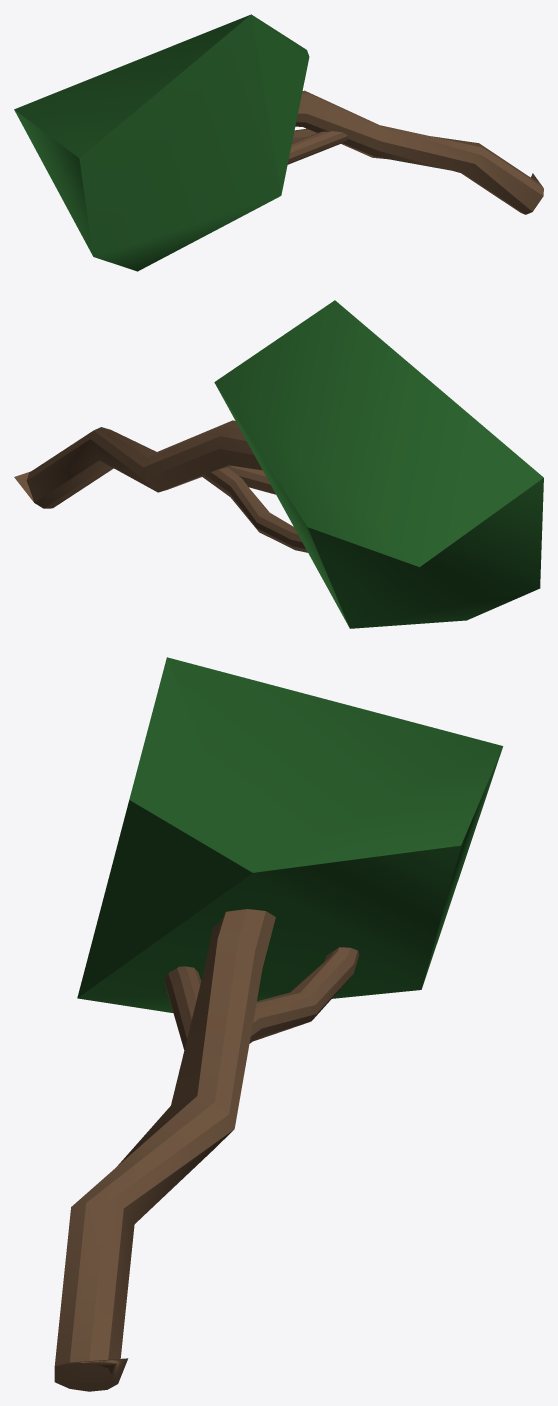
File: SM_ENV_TreeBranch.fbx
The picture shows the model from 3 angles, top to bottom: view 1: azimuth 30°, elevation 25°; view 2: azimuth 150°, elevation 25°; view 3: azimuth 270°, elevation 25°; orthographic projection. The views are drawn at different scales.
Parts seen in each view (by area): view 1: Tree_leafs4, pCylinder7, pCylinder9; view 2: Tree_leafs4, pCylinder7, pCylinder8, pCylinder9; view 3: Tree_leafs4, pCylinder7, pCylinder8, pCylinder9.
Part boxes in pixels (<box>): Tree_leafs4: <box>14,14,309,271</box>; pCylinder7: <box>295,90,543,214</box>; pCylinder9: <box>287,131,347,164</box>; Tree_leafs4: <box>214,300,543,628</box>; pCylinder7: <box>14,420,262,508</box>; pCylinder8: <box>202,467,307,552</box>; pCylinder9: <box>228,465,275,494</box>; Tree_leafs4: <box>77,657,503,1012</box>; pCylinder7: <box>54,909,275,1391</box>; pCylinder8: <box>249,947,359,1043</box>; pCylinder9: <box>164,966,201,1049</box>.
Size of the model in its own units: 432 by 228 by 189.
